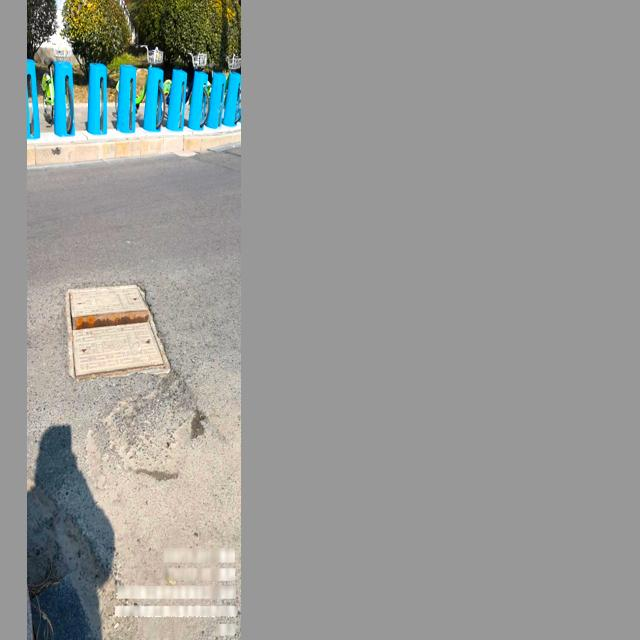uncovered: (64, 283, 170, 380)
